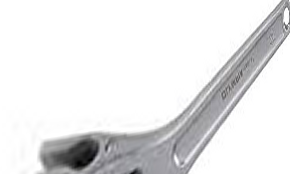wrench: (35, 1, 290, 174)
